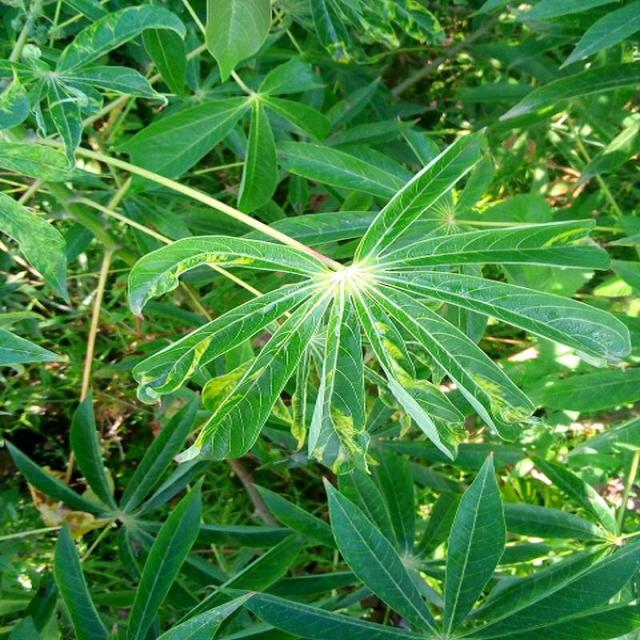Mosaico: (153, 234, 634, 451), (305, 0, 453, 58)
